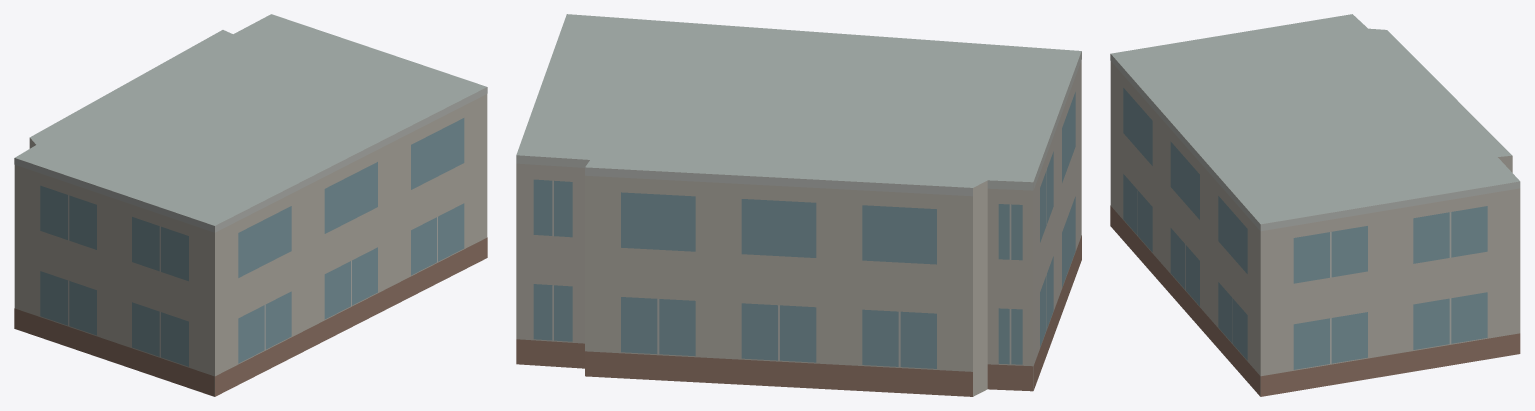
The model's file is survey-upis-32851304.glb.
3 renders of one model, left to right at view 1: azimuth 30°, elevation 25°; view 2: azimuth 150°, elevation 25°; view 3: azimuth 270°, elevation 25°, orthographic. The views are drawn at different scales.
Visible parts, largest first — view 1: survey-upis-32851304.tmp; view 2: survey-upis-32851304.tmp; view 3: survey-upis-32851304.tmp.
Boxes of the visible parts, bbox=[...] form: survey-upis-32851304.tmp: bbox=[14, 14, 487, 396]; survey-upis-32851304.tmp: bbox=[516, 14, 1081, 396]; survey-upis-32851304.tmp: bbox=[1110, 14, 1520, 396].
Bounding box in the file's own units: 15.97 × 6.1 × 13.14.
